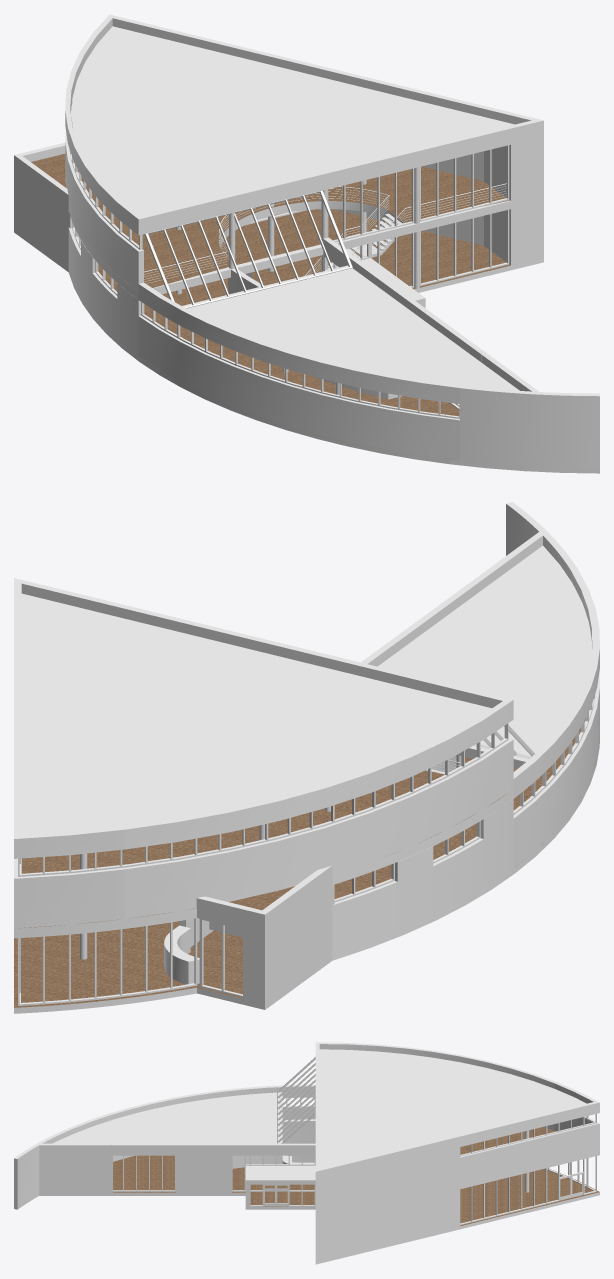
File: museum2.glb
The picture shows the model from 3 angles, top to bottom: view 1: azimuth 30°, elevation 25°; view 2: azimuth 150°, elevation 25°; view 3: azimuth 270°, elevation 25°; orthographic projection. The views are drawn at different scales.
Parts seen in each view (by area): view 1: Walls_10, Floor_7, Chrome_8; view 2: Walls_10, Floor_7; view 3: Walls_10, Floor_7.
Boxes of the visible parts, x1,y1,x2,y2 form: Walls_10: [14, 14, 599, 473]; Floor_7: [31, 154, 510, 463]; Chrome_8: [144, 183, 506, 283]; Walls_10: [14, 502, 599, 1013]; Floor_7: [14, 719, 599, 1007]; Walls_10: [14, 1042, 599, 1264]; Floor_7: [113, 1127, 599, 1225].
Bounding box in the file's own units: 105 × 34.96 × 200.
Materials: 5 (2 with a texture image).
